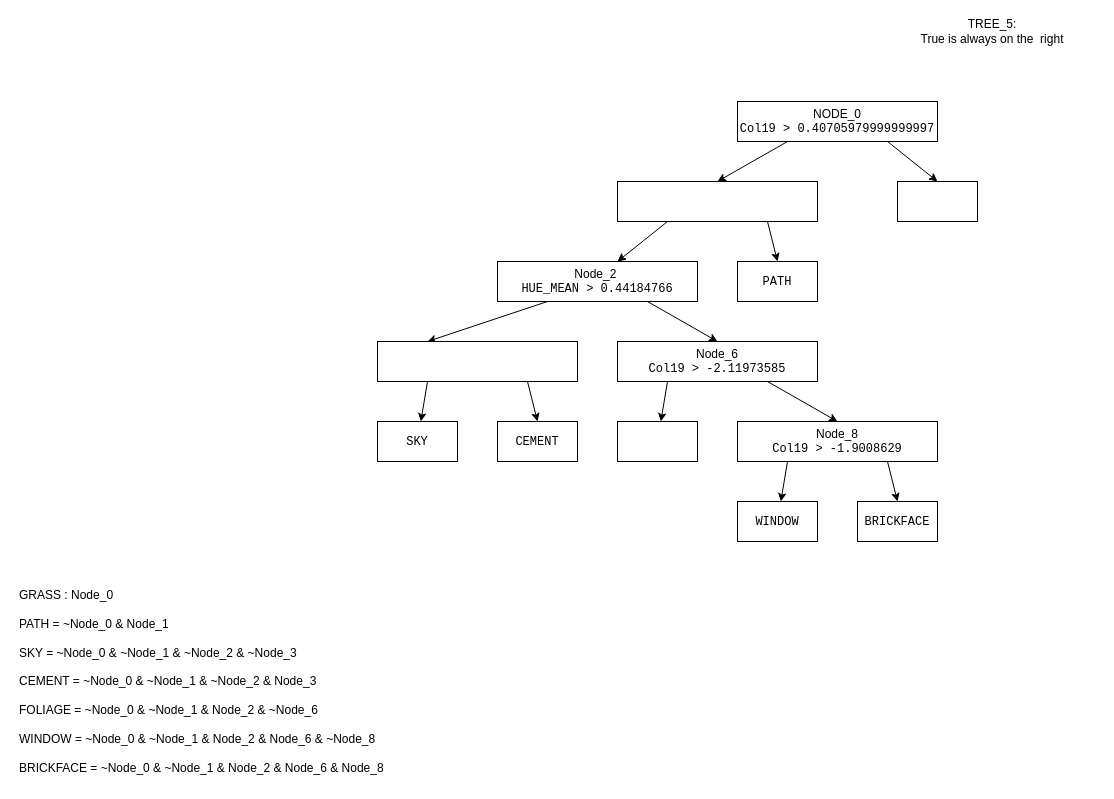
Image size: 1114x799. Some labels were removed from this diagram. Here are the shapes that lost their labels. From the top down, the centre of each, then its label:
At (717,201): "NODE_1 REGION_PIXEL_COUNT > 170.0".
At (937,201): "GRASS".
At (477,361): "Node_3 Col19 > -2.2433658999999997".
At (657,441): "FOLIAGE".
